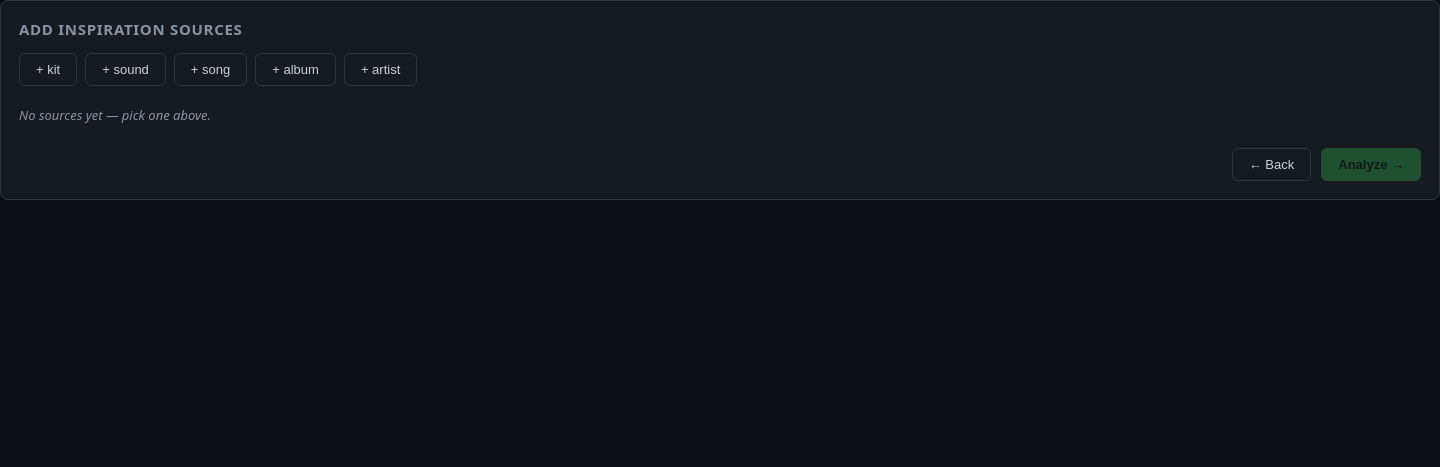
Test case: AddStep — picker UI › opens a draft with folder mode when "+ album" is clicked
The width and height of the screenshot is (1440, 467).
Click the button with test id "wizard-add-album" at [296, 70], box x1=255 y1=53 x2=336 y2=86
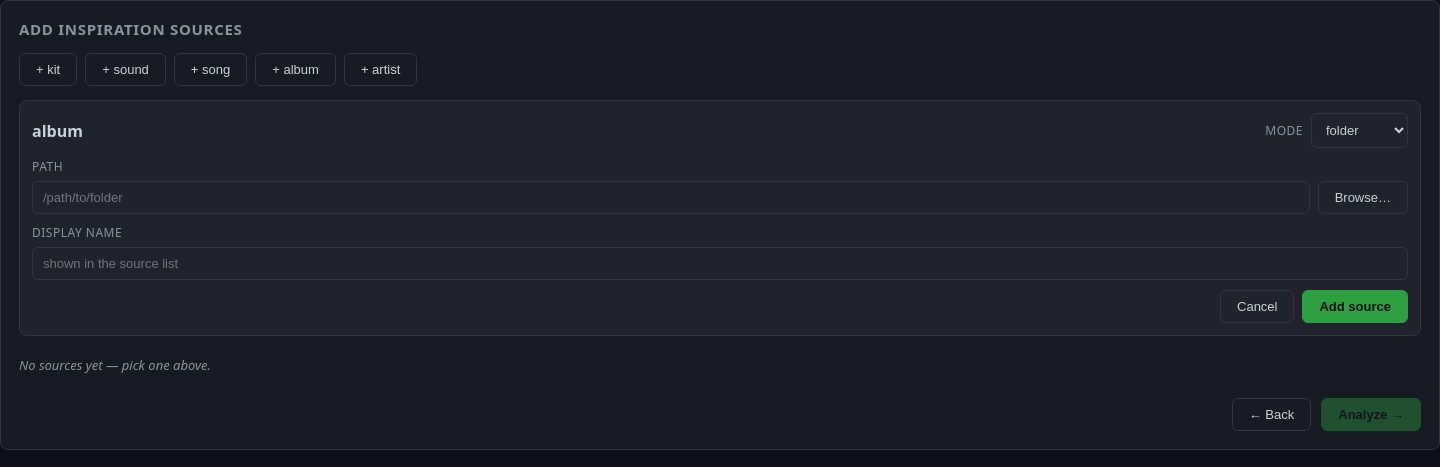
Expected: the dropdown with test id "wizard-draft-mode" shows "folder", x1=1311 y1=113 x2=1408 y2=148
